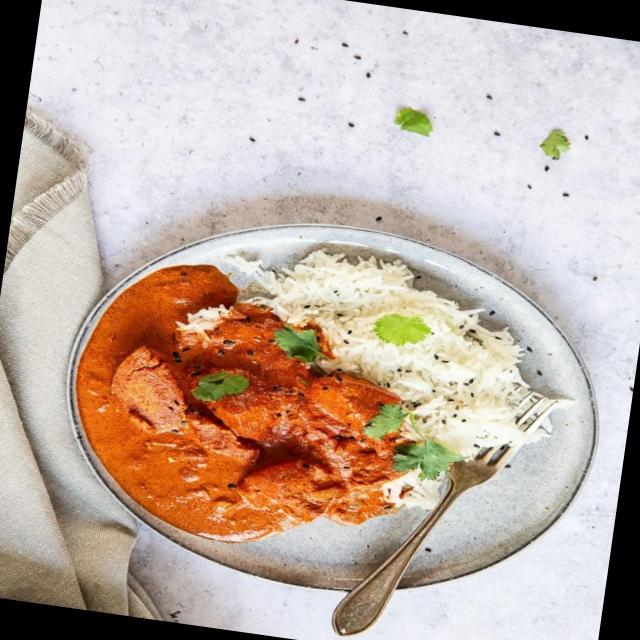chicken: (82, 278, 406, 554)
rice: (387, 284, 570, 478), (272, 234, 392, 368)
